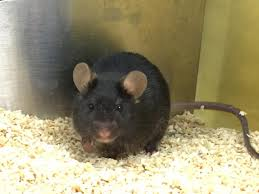mice: (68, 49, 259, 160)
